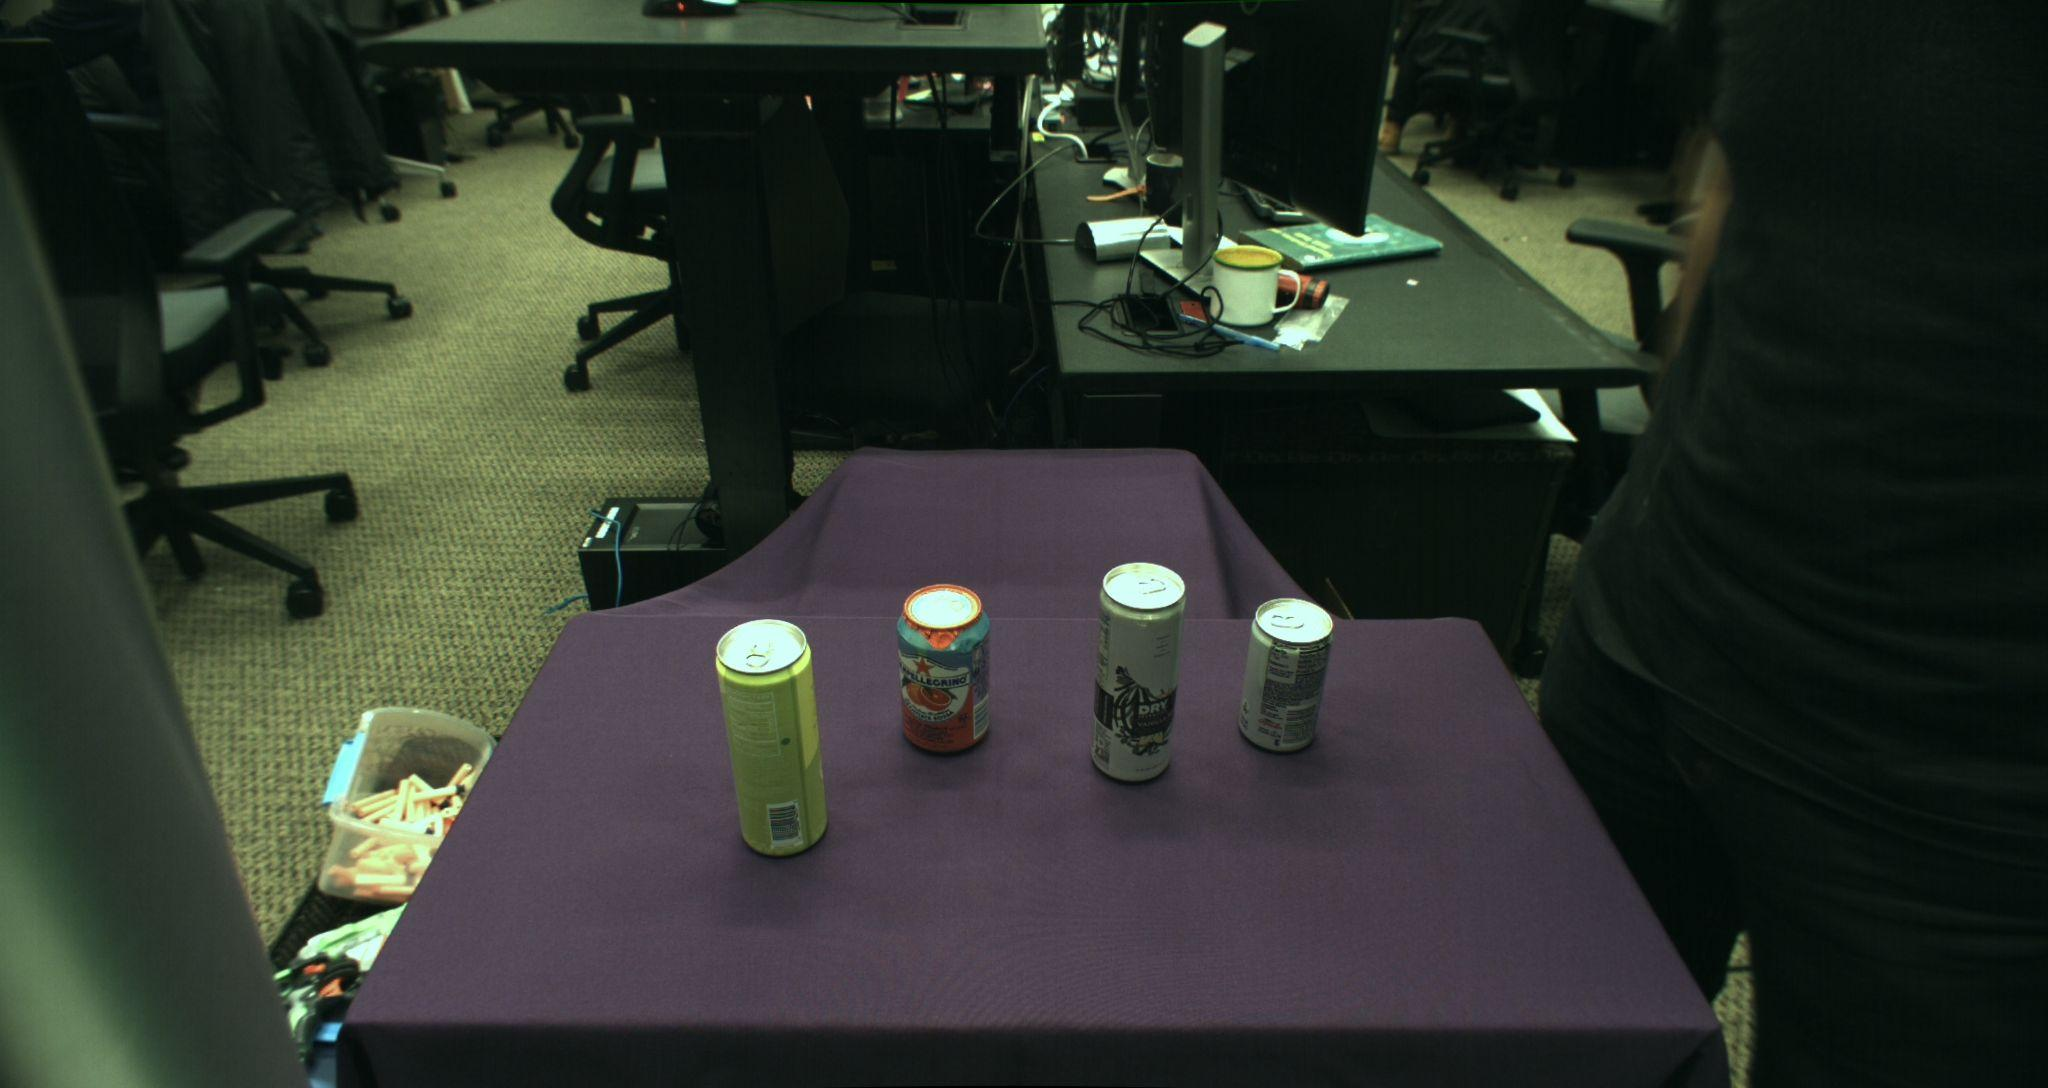can_diet_coke_small: (1237, 596, 1331, 755)
can_dry_sparkling_vanilla_bean: (1090, 564, 1187, 784)
can_izze_fusions_lemon_lime: (715, 618, 828, 858)
can_sanpellegrino_blood_orange: (897, 584, 993, 755)
